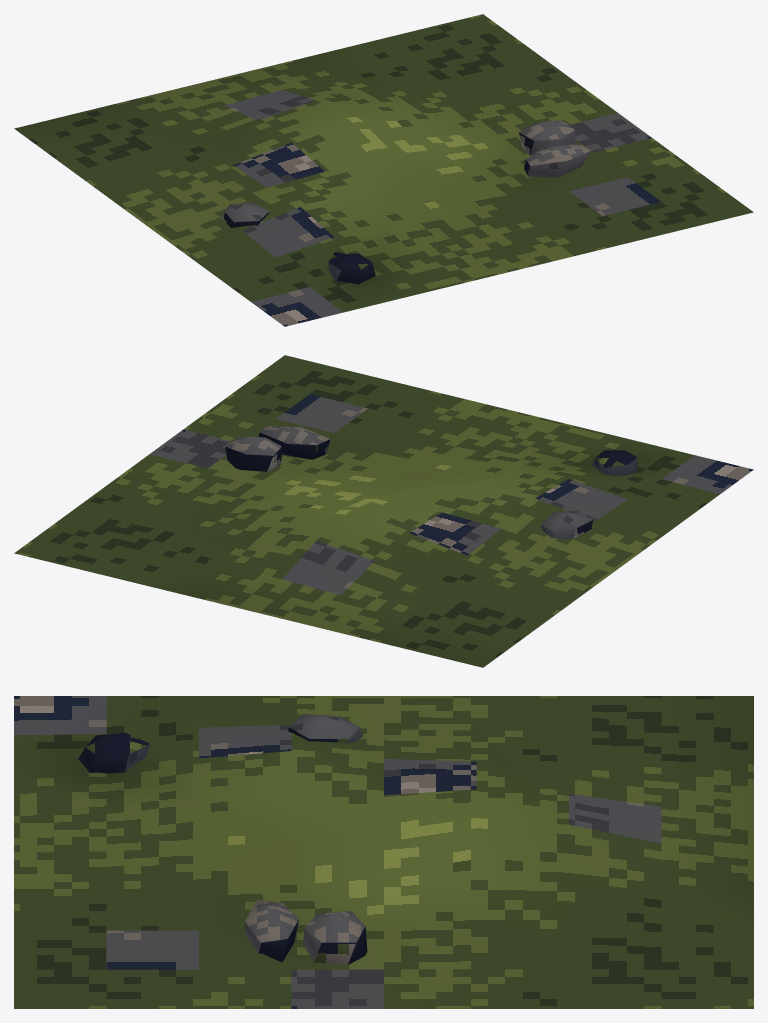
The model's file is lake.shore__land.glb.
3 renders of one model, top to bottom at view 1: azimuth 30°, elevation 25°; view 2: azimuth 150°, elevation 25°; view 3: azimuth 270°, elevation 25°, orthographic. The views are drawn at different scales.
Parts seen in each view (by area): view 1: kit_shell_bank, kit_stones; view 2: kit_shell_bank, kit_stones; view 3: kit_shell_bank, kit_stones.
Boxes of the visible parts, left/top/right/bottom form: kit_shell_bank: left=14, top=14, right=753, bottom=326; kit_stones: left=221, top=120, right=591, bottom=284; kit_shell_bank: left=14, top=355, right=753, bottom=667; kit_stones: left=225, top=425, right=637, bottom=539; kit_shell_bank: left=14, top=696, right=753, bottom=1008; kit_stones: left=78, top=714, right=367, bottom=965.
Bounding box in the file's own units: 4 × 0.2557 × 4.
3 materials, 3 textured.
